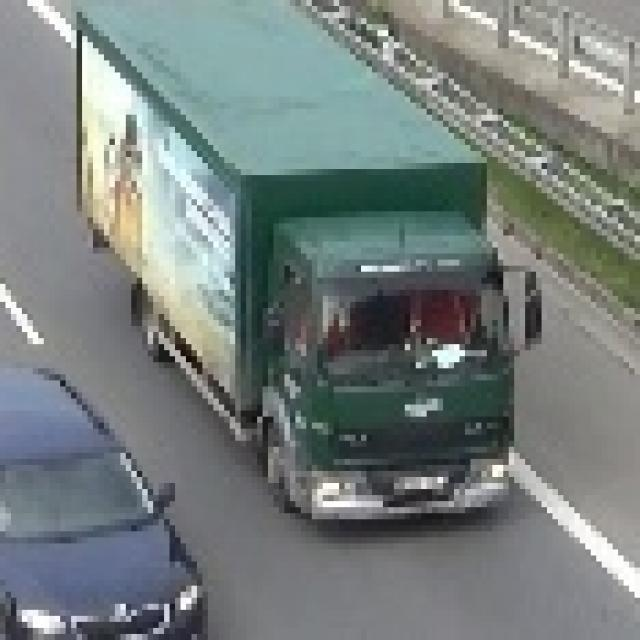Truck: (71, 0, 536, 519)
